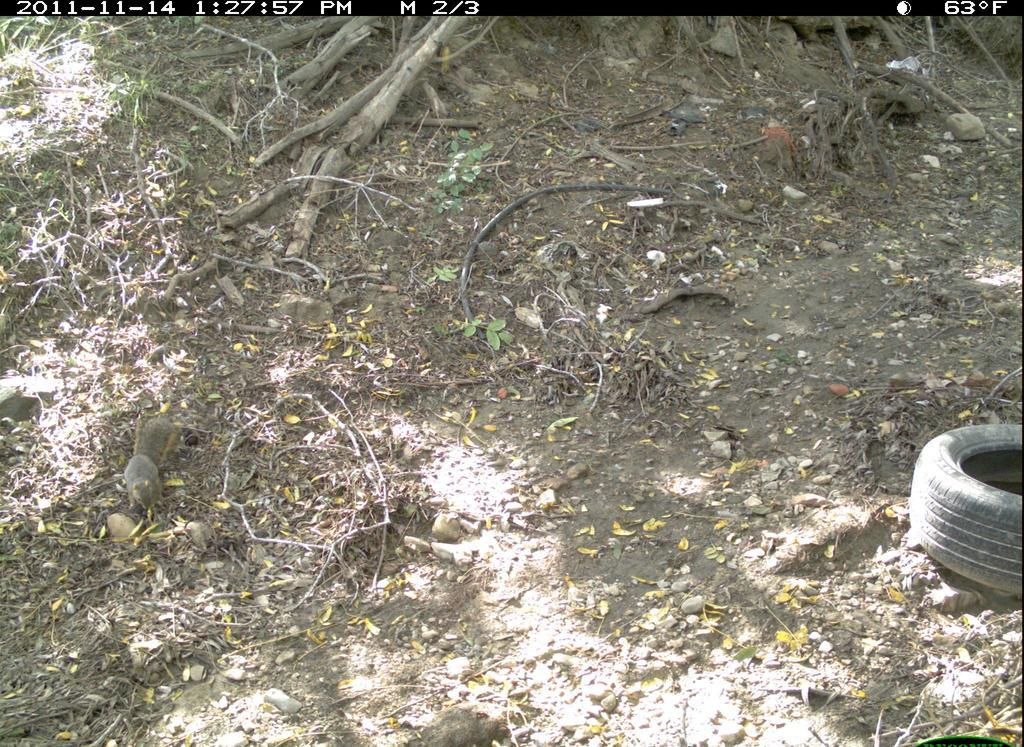squirrel: (123, 409, 187, 517)
